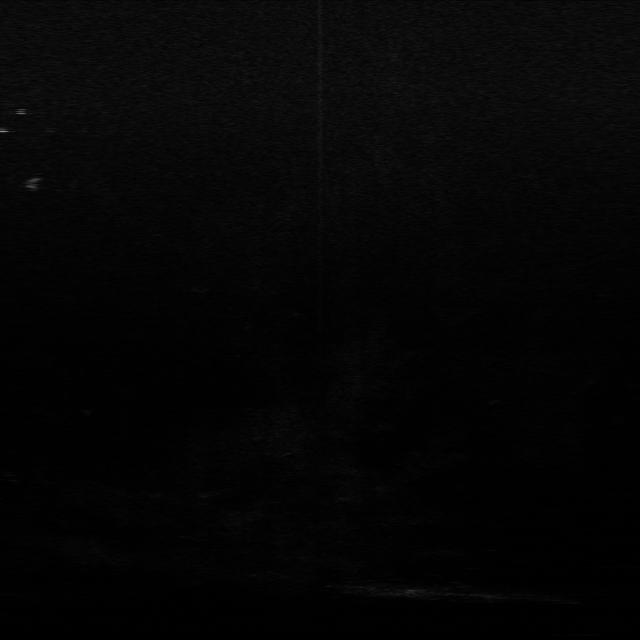rov: (22, 176, 47, 194)
